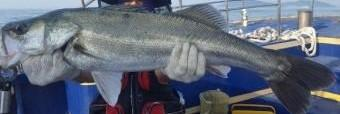fish: (1, 3, 334, 113)
